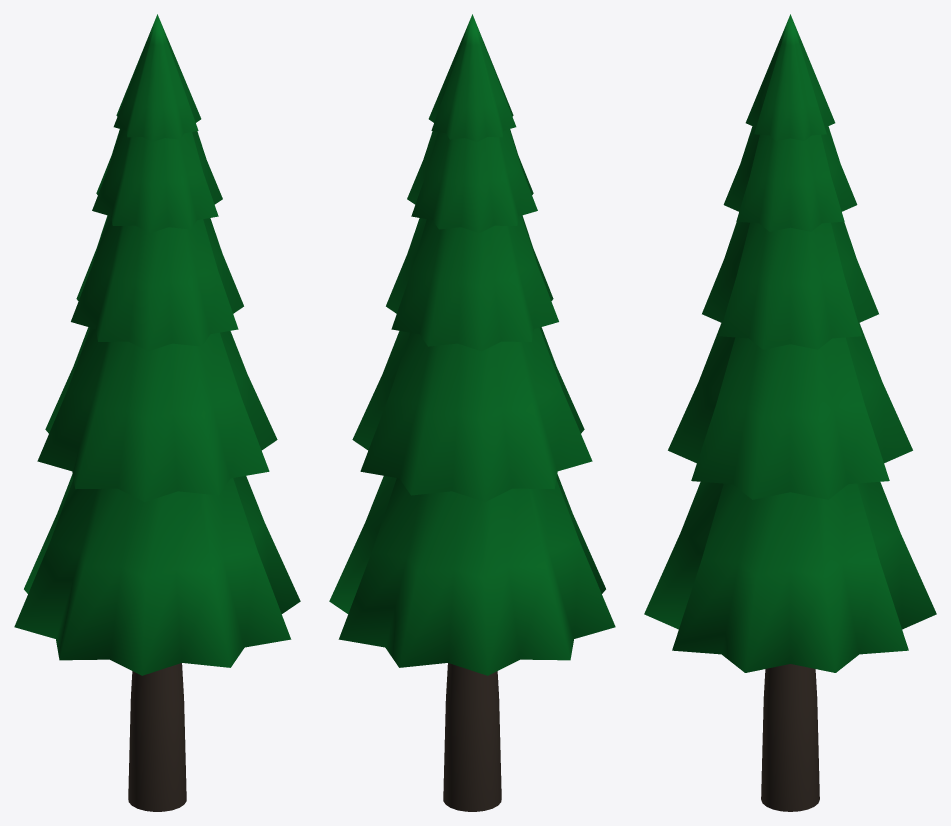
The model's file is Pine2.fbx.
3 views of the same model, side by side, from view 1: azimuth 30°, elevation 25°; view 2: azimuth 150°, elevation 25°; view 3: azimuth 270°, elevation 25° (orthographic).
Parts seen in each view (by area): view 1: Pine2; view 2: Pine2; view 3: Pine2.
Part boxes in pixels (x1,y1,x2,y2): Pine2: (14,14,300,811); Pine2: (329,14,615,811); Pine2: (644,14,936,811).
Size of the model in its own units: 7.15 by 22.25 by 7.52.
